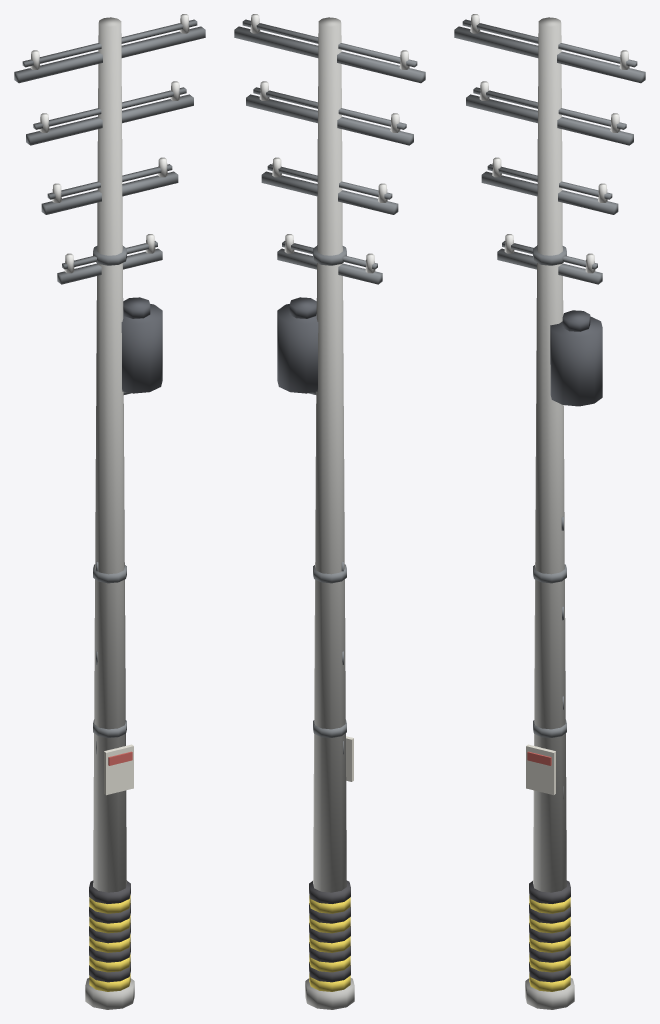
Rendered from pole-utility-b.glb.
The picture shows the model from 3 angles, left to right: view 1: azimuth 30°, elevation 25°; view 2: azimuth 150°, elevation 25°; view 3: azimuth 330°, elevation 25°; orthographic projection.
Parts seen in each view (by area): view 1: pole-shaft, pole-arms, pole-transformer, pole-sleeve-k, pole-sleeve-y, pole-insulators, pole-ad, pole-bands; view 2: pole-shaft, pole-arms, pole-transformer, pole-sleeve-k, pole-sleeve-y, pole-insulators, pole-bands; view 3: pole-shaft, pole-arms, pole-transformer, pole-sleeve-k, pole-sleeve-y, pole-insulators, pole-ad, pole-bands.
Part boxes in pixels (x1=…): pole-shaft: x1=85, y1=17, x2=134, y2=1009; pole-arms: x1=14, y1=19, x2=205, y2=284; pole-transformer: x1=121, y1=297, x2=162, y2=393; pole-sleeve-k: x1=89, y1=880, x2=130, y2=982; pole-sleeve-y: x1=89, y1=895, x2=130, y2=991; pole-insulators: x1=30, y1=14, x2=189, y2=273; pole-ad: x1=104, y1=744, x2=133, y2=795; pole-bands: x1=93, y1=246, x2=126, y2=737; pole-shaft: x1=305, y1=17, x2=354, y2=1009; pole-arms: x1=234, y1=19, x2=425, y2=284; pole-transformer: x1=277, y1=297, x2=318, y2=393; pole-sleeve-k: x1=309, y1=880, x2=350, y2=982; pole-sleeve-y: x1=309, y1=895, x2=350, y2=991; pole-insulators: x1=250, y1=14, x2=409, y2=273; pole-bands: x1=313, y1=246, x2=346, y2=737; pole-shaft: x1=525, y1=17, x2=574, y2=1009; pole-arms: x1=454, y1=19, x2=645, y2=284; pole-transformer: x1=550, y1=310, x2=602, y2=406; pole-sleeve-k: x1=529, y1=880, x2=570, y2=982; pole-sleeve-y: x1=529, y1=895, x2=570, y2=991; pole-insulators: x1=470, y1=14, x2=629, y2=273; pole-ad: x1=526, y1=744, x2=555, y2=795; pole-bands: x1=533, y1=246, x2=566, y2=737.
Size of the model in its own units: 2.4 by 12 by 0.6.
